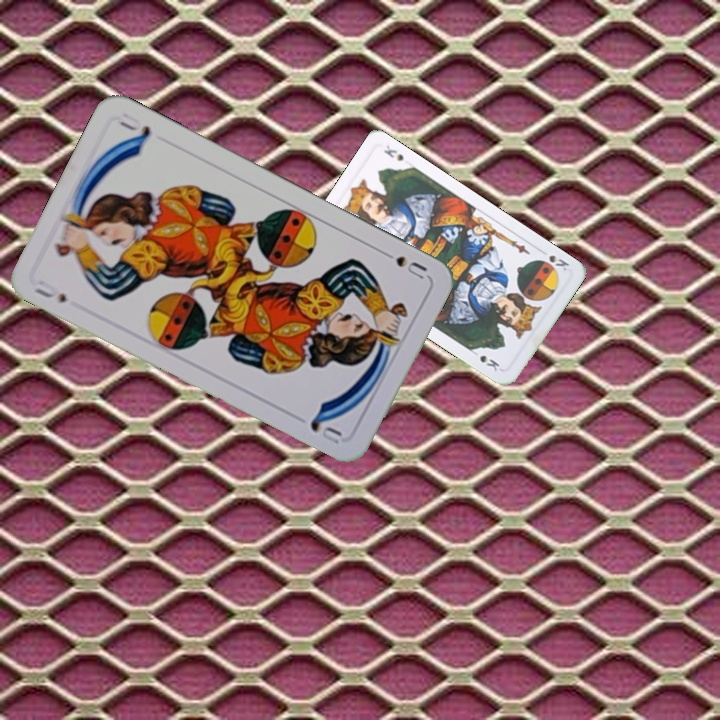SK: (535, 245, 572, 274)
SU: (375, 246, 430, 282), (30, 276, 70, 306)
